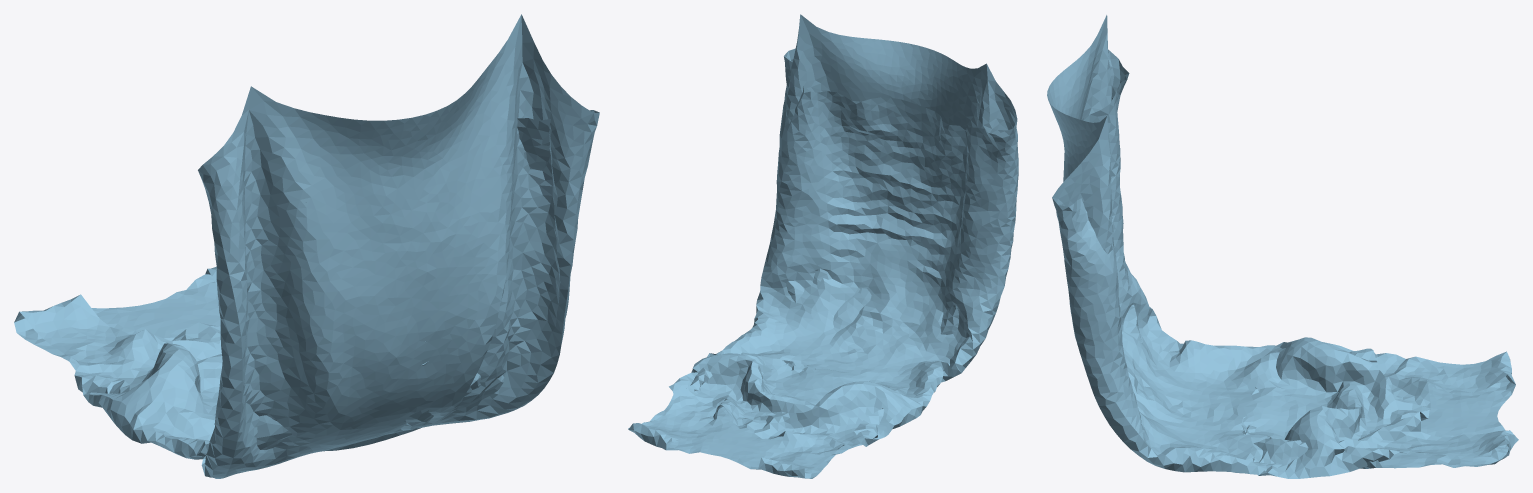
The model's file is frame_09.glb.
3 renders of one model, left to right at view 1: azimuth 30°, elevation 25°; view 2: azimuth 150°, elevation 25°; view 3: azimuth 270°, elevation 25°, orthographic. The views are drawn at different scales.
Visible parts, largest first — view 1: frame_09.obj; view 2: frame_09.obj; view 3: frame_09.obj.
Boxes of the visible parts, x1=… form: frame_09.obj: x1=14, y1=14, x2=599, y2=478; frame_09.obj: x1=628, y1=14, x2=1018, y2=478; frame_09.obj: x1=1047, y1=15, x2=1518, y2=478.
Bounding box in the file's own units: 0.9087 × 1.05 × 1.26.
